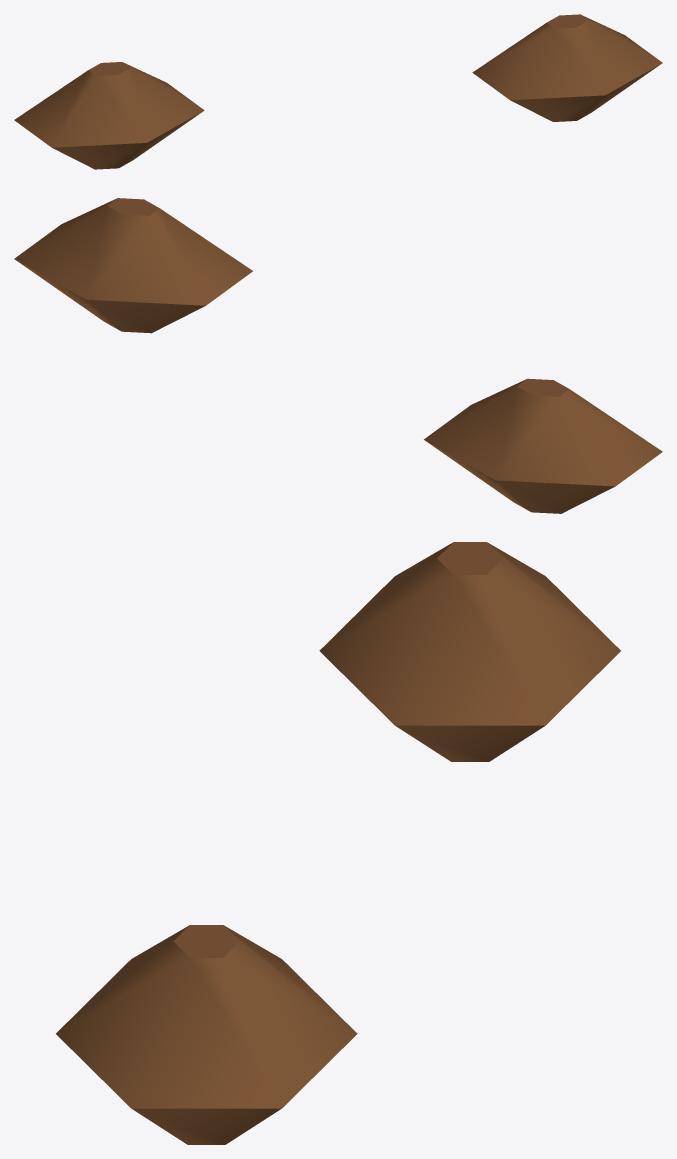
File: crop_apple_tree_seeded.glb
3 views of the same model, one above another, from view 1: azimuth 30°, elevation 25°; view 2: azimuth 150°, elevation 25°; view 3: azimuth 270°, elevation 25° (orthographic). The views are drawn at different scales.
Visible parts, largest first — view 1: crop_apple_tree_seeded_seed_0; view 2: crop_apple_tree_seeded_seed_0; view 3: crop_apple_tree_seeded_seed_0.
Boxes of the visible parts, <box> form: crop_apple_tree_seeded_seed_0: <box>14,14,662,169</box>; crop_apple_tree_seeded_seed_0: <box>14,198,662,513</box>; crop_apple_tree_seeded_seed_0: <box>56,542,620,1144</box>.
Size of the model in its own units: 0.1358 by 0.022 by 0.061.
